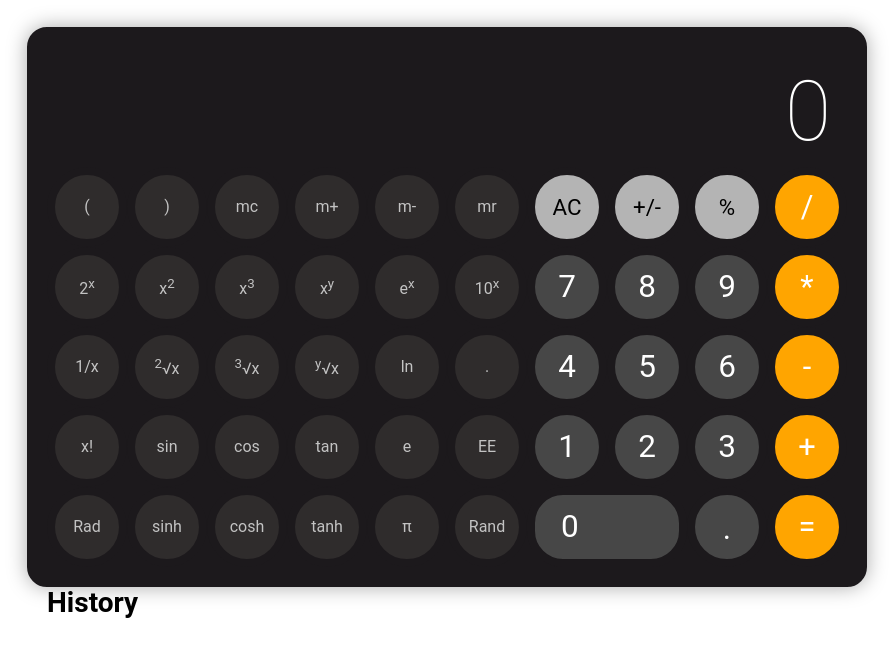
Calculator React Test › checks to see add and equals opertion work correctly
Expected: the number of buttons with test id "key2" is 1, [607,407,687,487]
Expected: the number of elements with test id "display" is 1, [785,62,831,161]
Step 1. Click the button with test id "key1" → (567, 447), box [527,407,607,487]
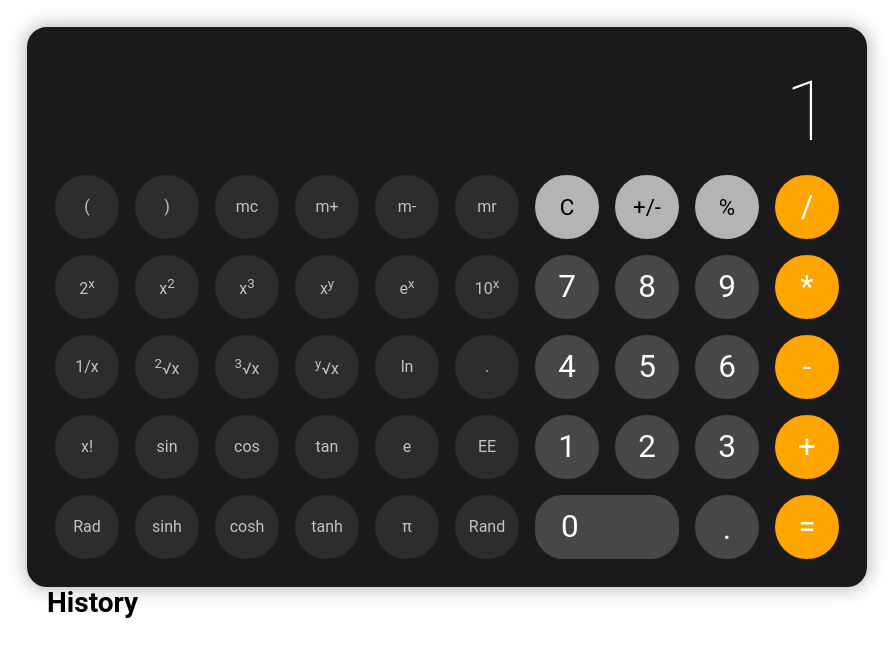
Step 2. Click the button with test id "key2" → (647, 447), box [607,407,687,487]
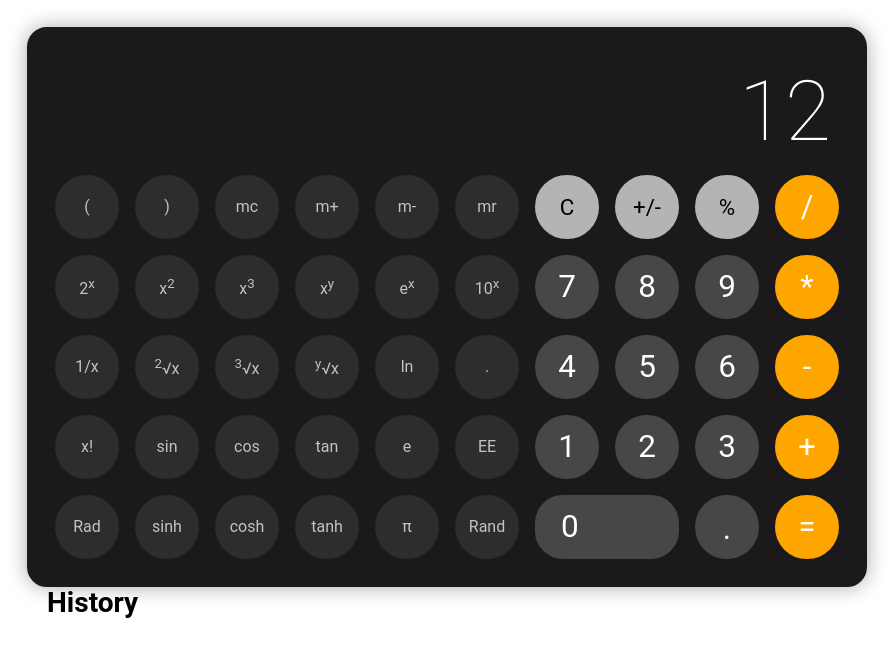
Step 3. Click the button with test id "add" → (807, 447), box [767,407,847,487]
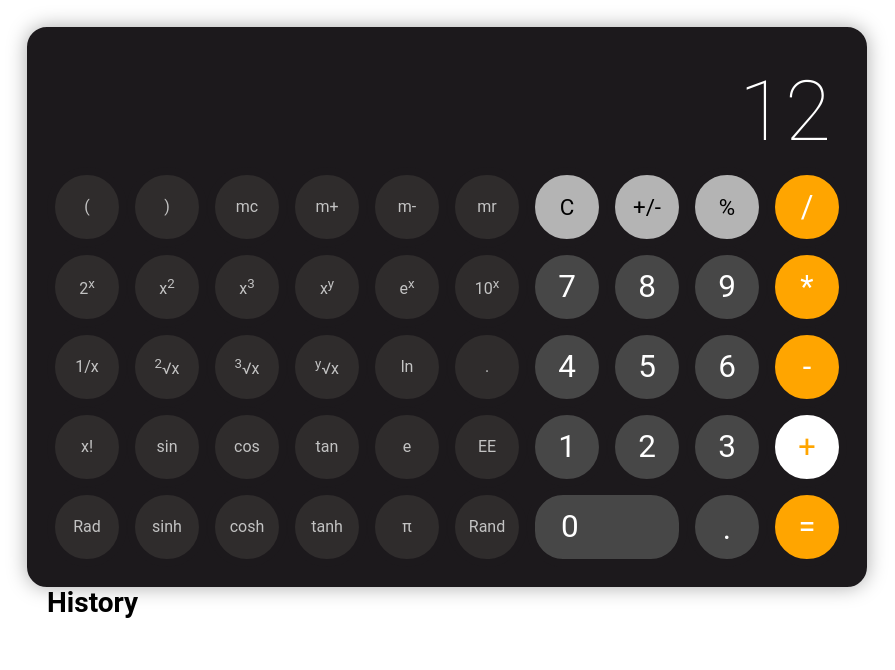
Step 4. Click the button with test id "key5" → (647, 367), box [607,327,687,407]
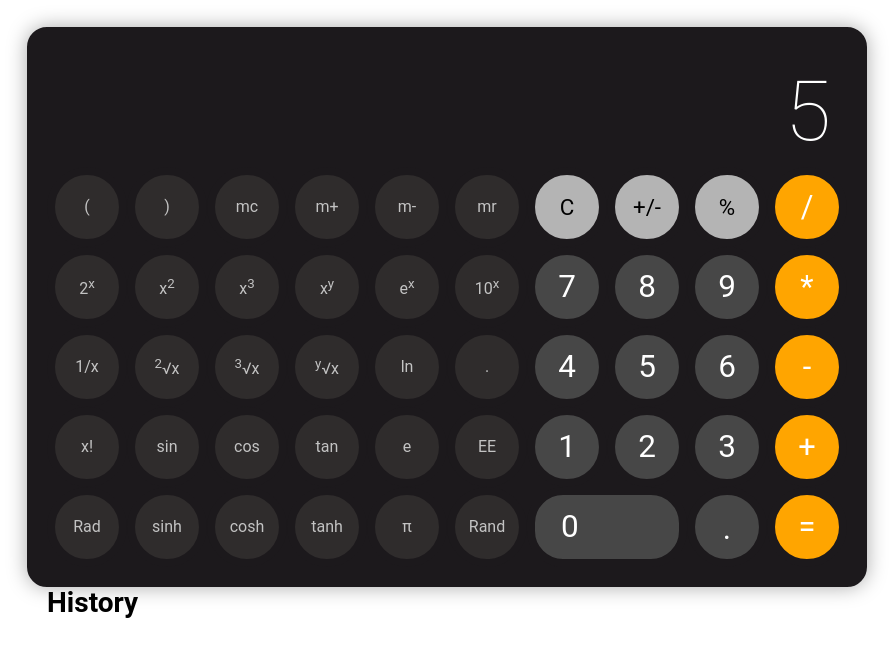
Step 5. Click the button with test id "key7" → (567, 287), box [527,247,607,327]
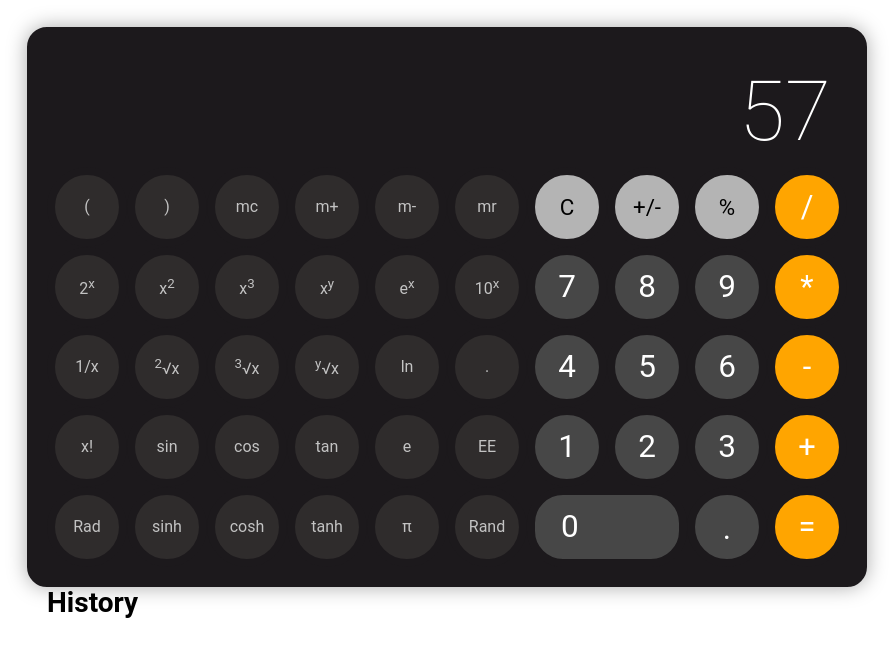
Step 6. Click the button with test id "equals" → (807, 527), box [767,487,847,567]
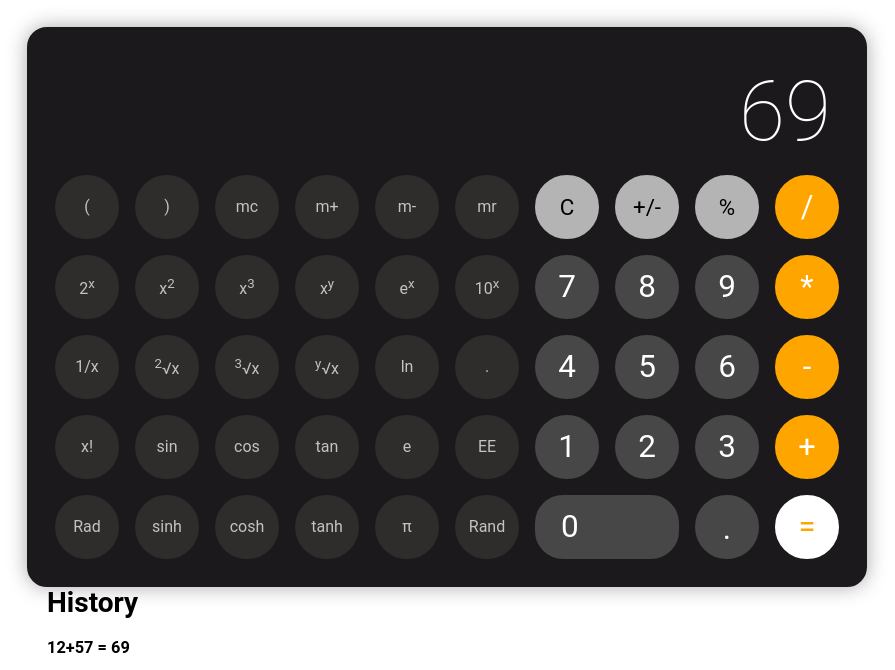
Expected: the text with test id "display" reads "69", [739,62,831,161]
